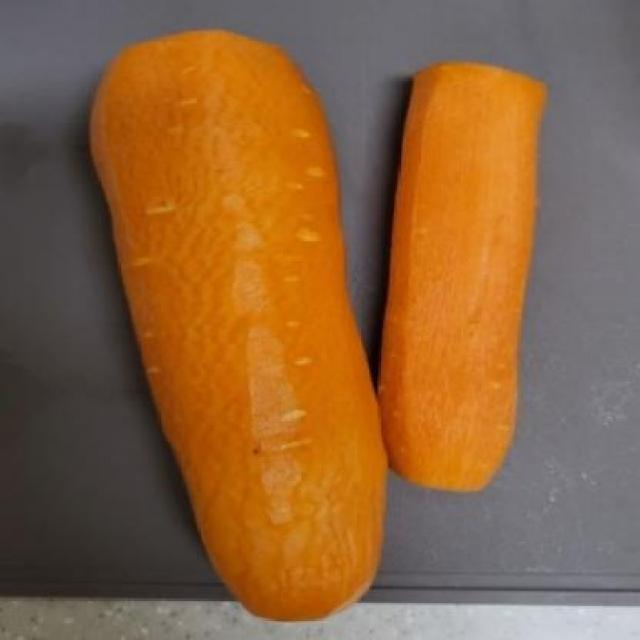carrot: (74, 18, 397, 634), (364, 51, 544, 502)
